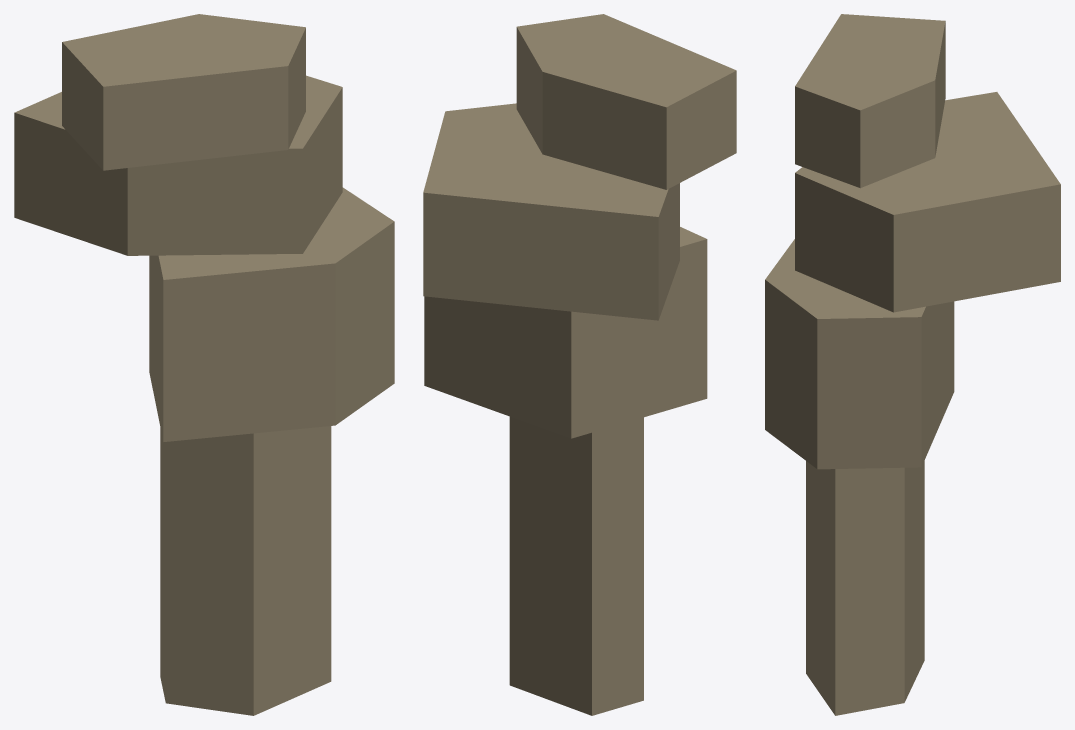
File: 地形块D1.FBX
3 renders of one model, left to right at view 1: azimuth 30°, elevation 25°; view 2: azimuth 150°, elevation 25°; view 3: azimuth 270°, elevation 25°, orthographic. The views are drawn at different scales.
Parts seen in each view (by area): view 1: 地形块D1; view 2: 地形块D1; view 3: 地形块D1.
Boxes of the visible parts, <box> form: 地形块D1: <box>14,14,394,715</box>; 地形块D1: <box>423,14,736,715</box>; 地形块D1: <box>765,14,1060,715</box>.
Size of the model in its own units: 1.43 by 3.13 by 1.4.
Materials: 1 (1 with a texture image).
